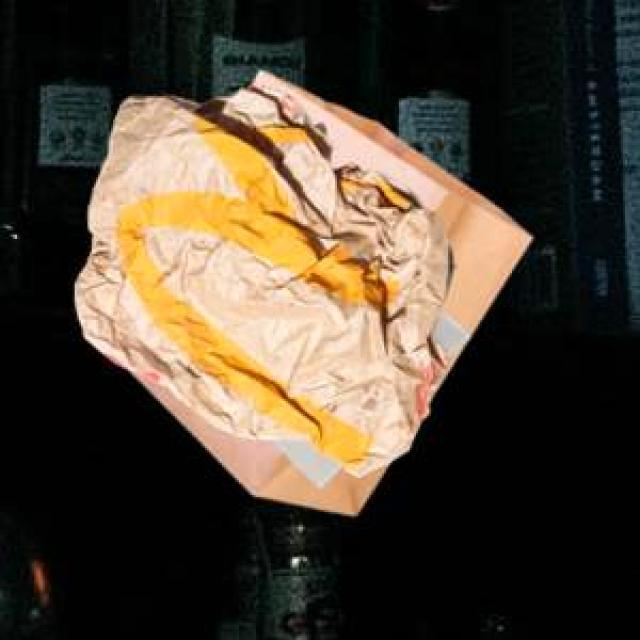Paper_Bag: (129, 67, 528, 513), (71, 82, 454, 475), (269, 306, 466, 485)
